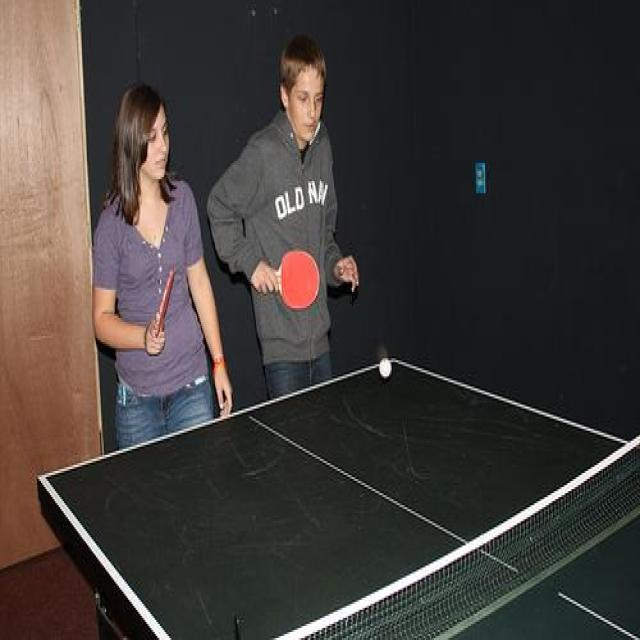ping-pong-ball: (379, 357, 392, 377)
